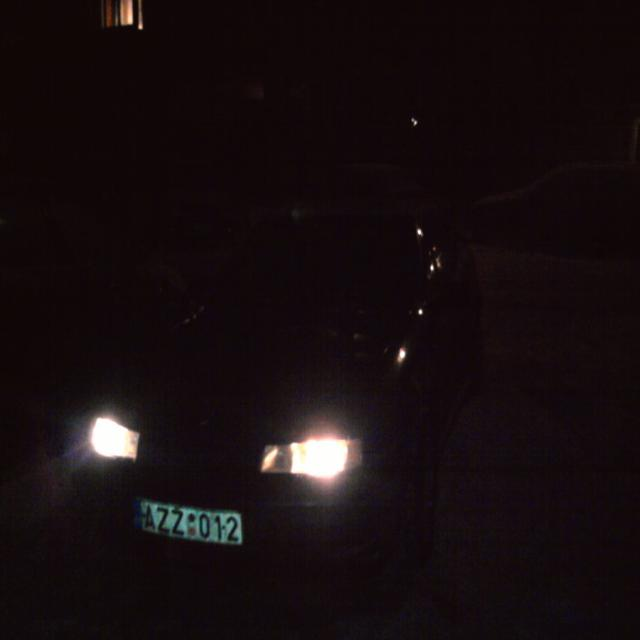car: (35, 130, 495, 616)
